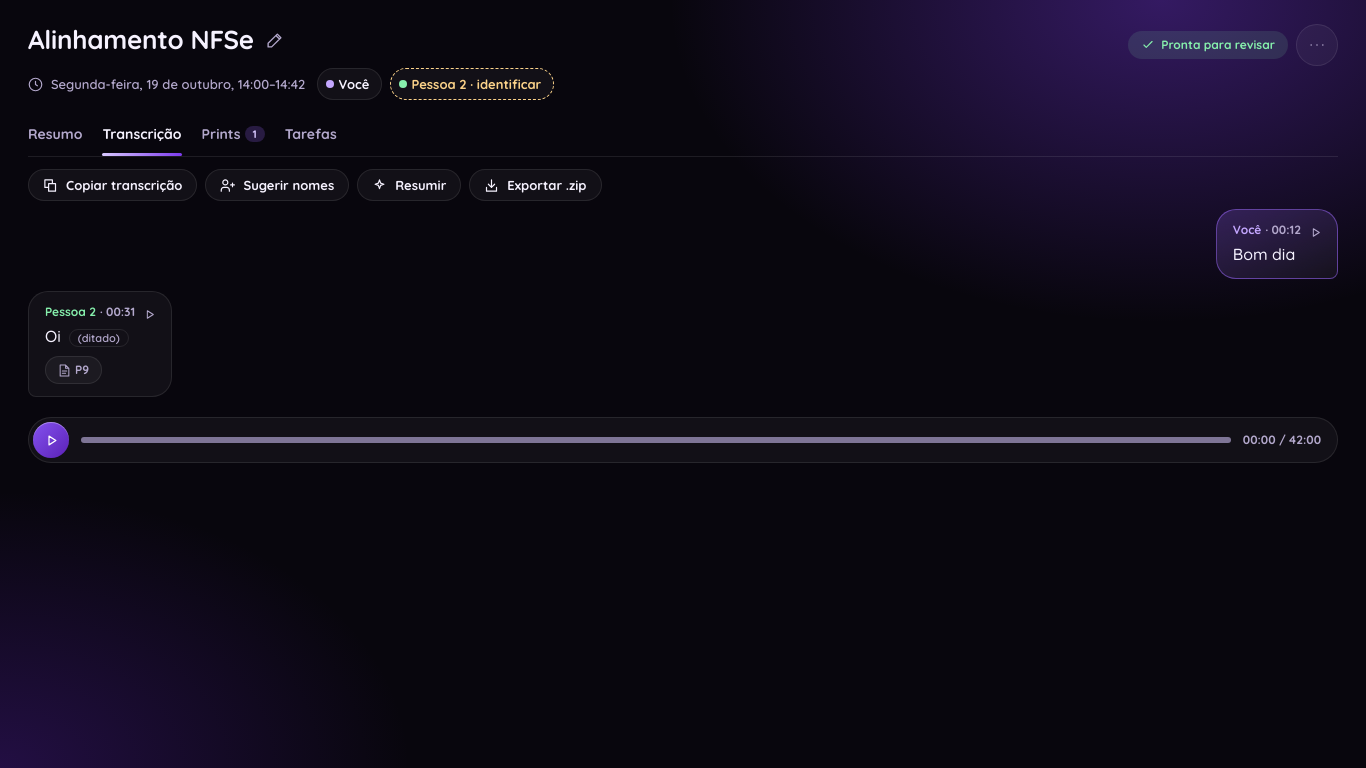
Test: MeetingDetail › o selo da transcrição abre a aba Prints no print certo
What coordinates should you click on to do the following:
click the button "P9"
I would click on:
 (74, 370)
Its box is [45,356,102,384].
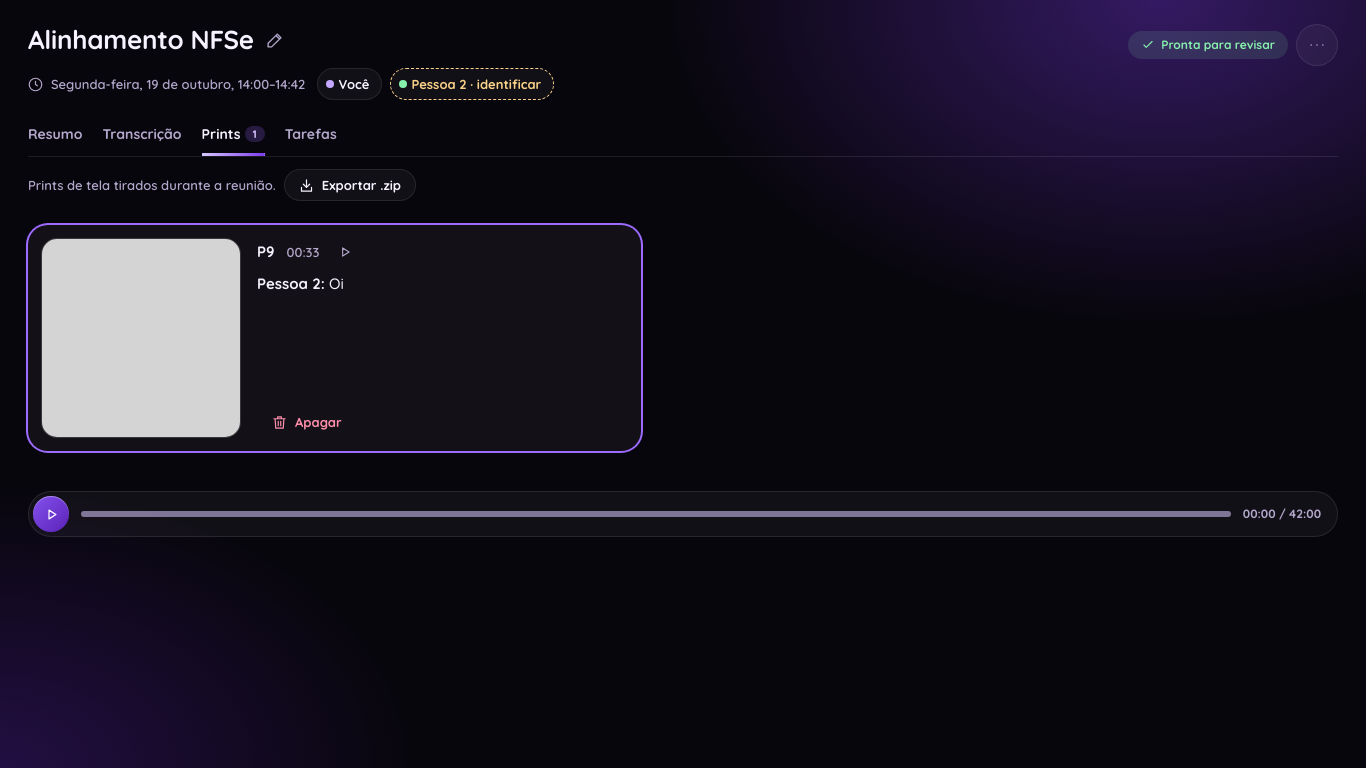
Check: the list item with class "focused" shows "P9", box [257,242,275,261]
